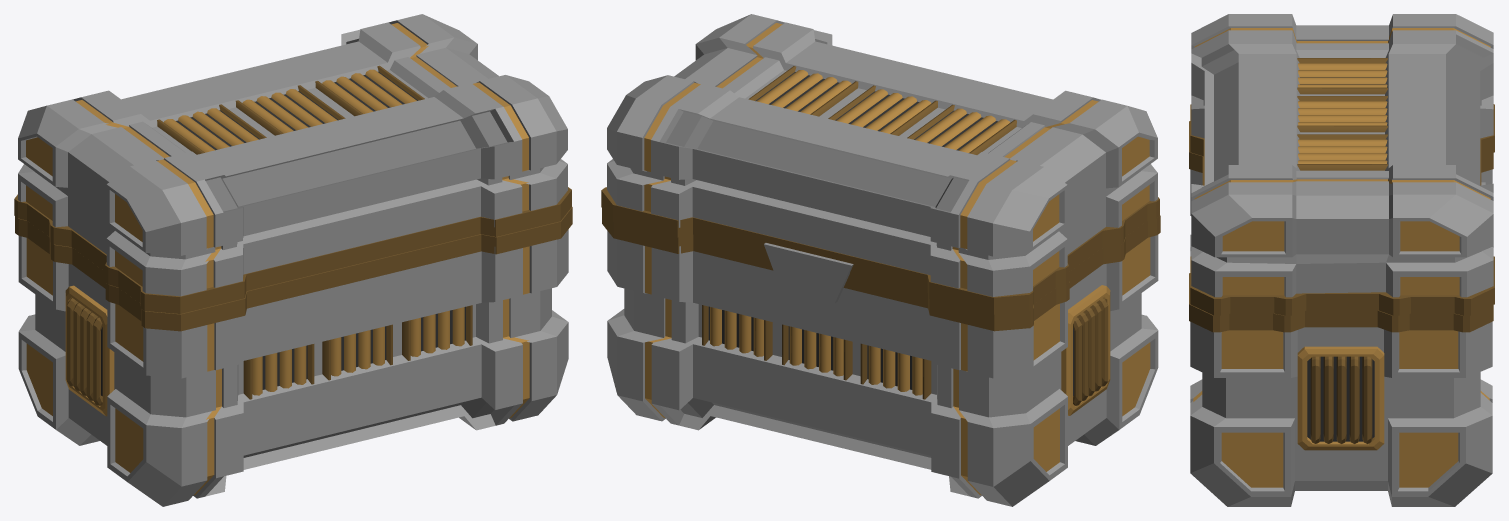
The picture shows the model from 3 angles, left to right: view 1: azimuth 30°, elevation 25°; view 2: azimuth 150°, elevation 25°; view 3: azimuth 270°, elevation 25°; orthographic projection.
Parts seen in each view (by area): view 1: Props_ChestTop, Props_ChestBottom; view 2: Props_ChestTop, Props_ChestBottom; view 3: Props_ChestTop, Props_ChestBottom.
Boxes of the visible parts, x1,y1,x2,y2 form: Props_ChestTop: (14,14,571,313); Props_ChestBottom: (15,207,572,506); Props_ChestTop: (601,14,1159,314); Props_ChestBottom: (602,208,1160,506); Props_ChestTop: (1190,14,1494,315); Props_ChestBottom: (1189,121,1493,506).
Size of the model in its own units: 1.29 by 0.911 by 0.8082.
